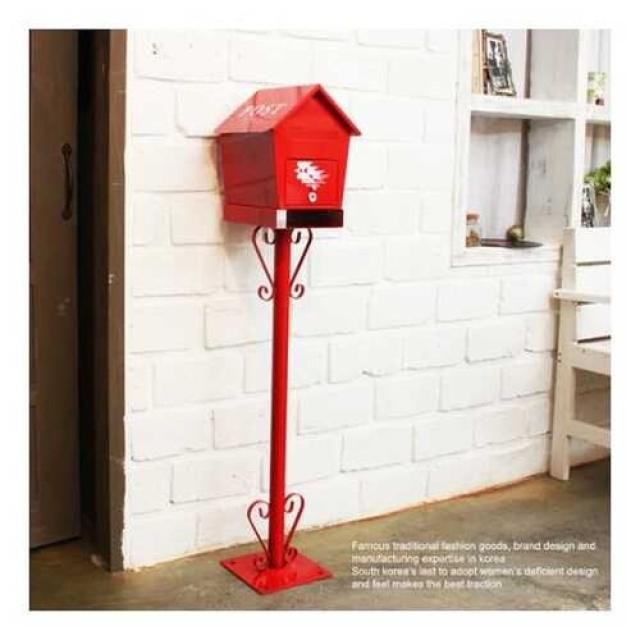Post Box: (212, 80, 362, 230)
